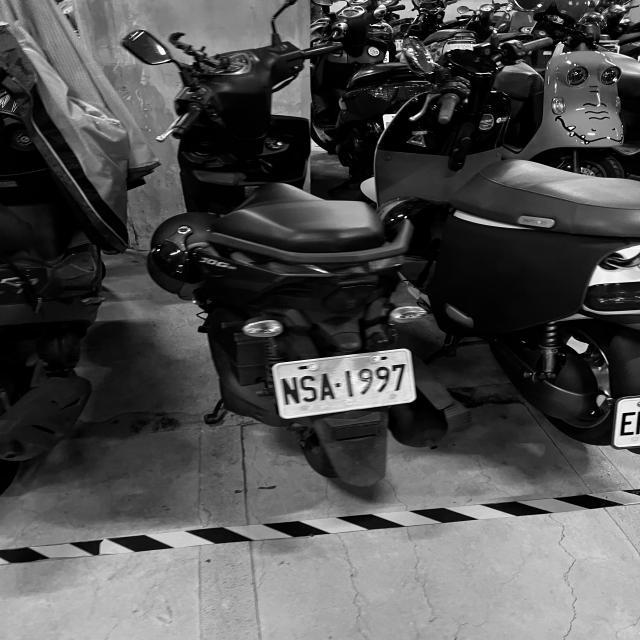-: (333, 381, 342, 389)
1: (342, 370, 356, 398)
7: (390, 362, 408, 391)
9: (355, 367, 375, 395), (374, 366, 391, 394)
A: (318, 373, 336, 402)
E: (621, 410, 635, 437)
N: (280, 378, 301, 406)
S: (300, 374, 319, 401)
plate: (278, 353, 411, 409)
